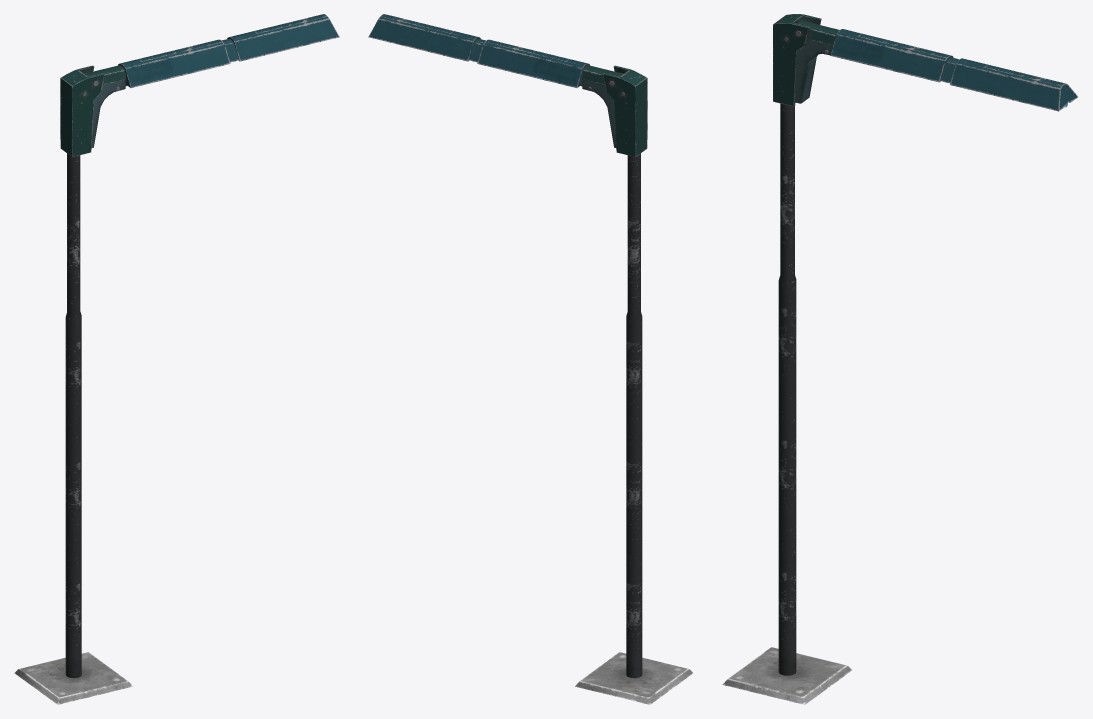
Rendered from street_light.glb.
3 renders of one model, left to right at view 1: azimuth 30°, elevation 25°; view 2: azimuth 150°, elevation 25°; view 3: azimuth 330°, elevation 25°, orthographic. The views are drawn at different scales.
Visible parts, largest first — view 1: pipe_low, Light_Handle_low, G_low, hh_low, Handle_low; view 2: pipe_low, Light_Handle_low, G_low, hh_low, Handle_low; view 3: pipe_low, Light_Handle_low, G_low, hh_low, Handle_low.
Part boxes in pixels (x1,y1,x2,y2): pipe_low: (65, 153, 81, 678); Light_Handle_low: (118, 14, 339, 87); G_low: (14, 652, 132, 704); hh_low: (60, 65, 104, 156); Handle_low: (91, 79, 125, 147); pipe_low: (626, 153, 642, 678); Light_Handle_low: (368, 14, 589, 87); G_low: (575, 652, 693, 704); hh_low: (603, 65, 647, 156); Handle_low: (582, 79, 616, 147); pipe_low: (778, 103, 796, 675); Light_Handle_low: (830, 29, 1077, 111); G_low: (722, 647, 852, 704); hh_low: (773, 14, 821, 106); Handle_low: (795, 39, 833, 103).
Size of the model in its own units: 199 by 389 by 50.8.
Materials: 1 (1 with a texture image).
